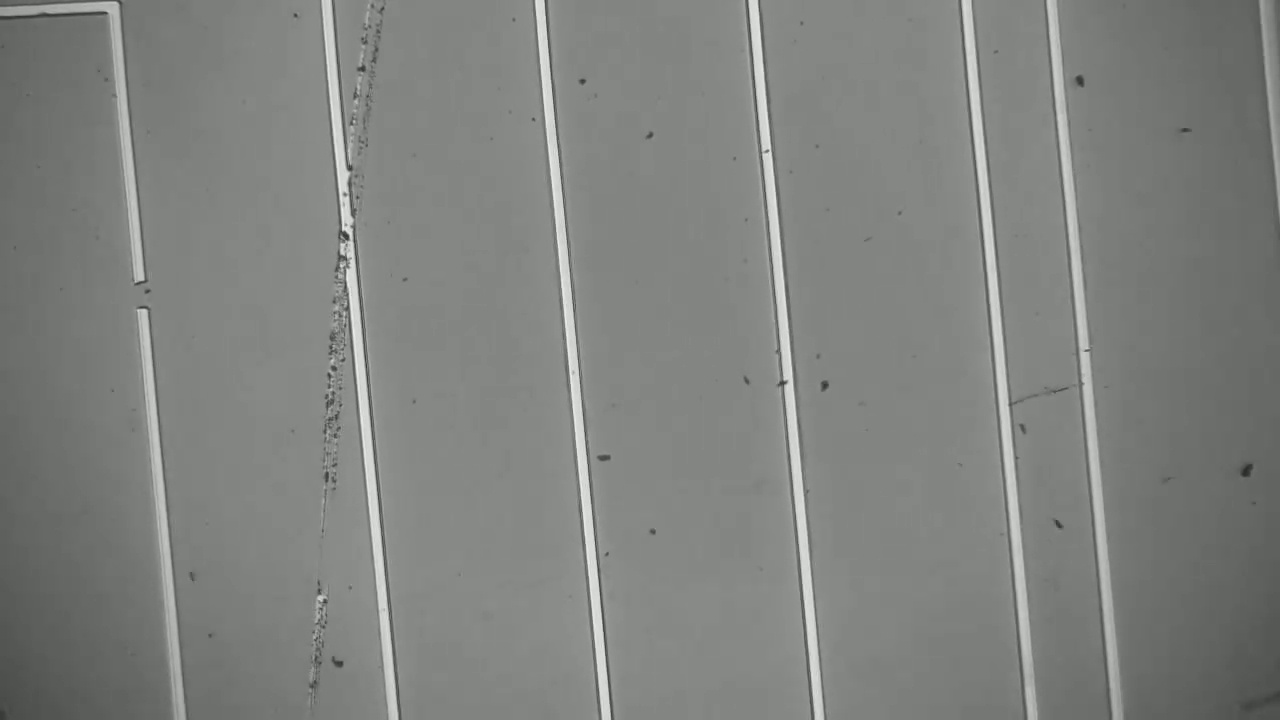open: (118, 259, 170, 339)
scratch: (309, 4, 393, 714), (1013, 378, 1075, 419)
